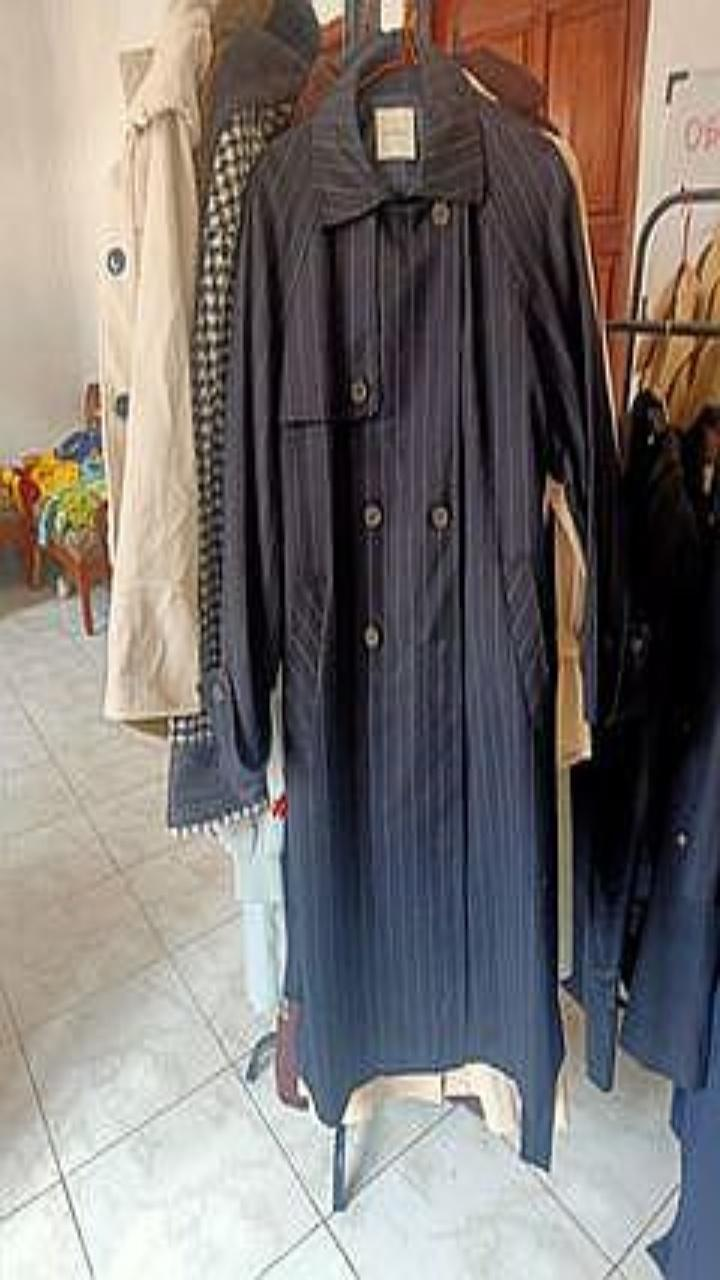Coat: (210, 40, 617, 1161)
